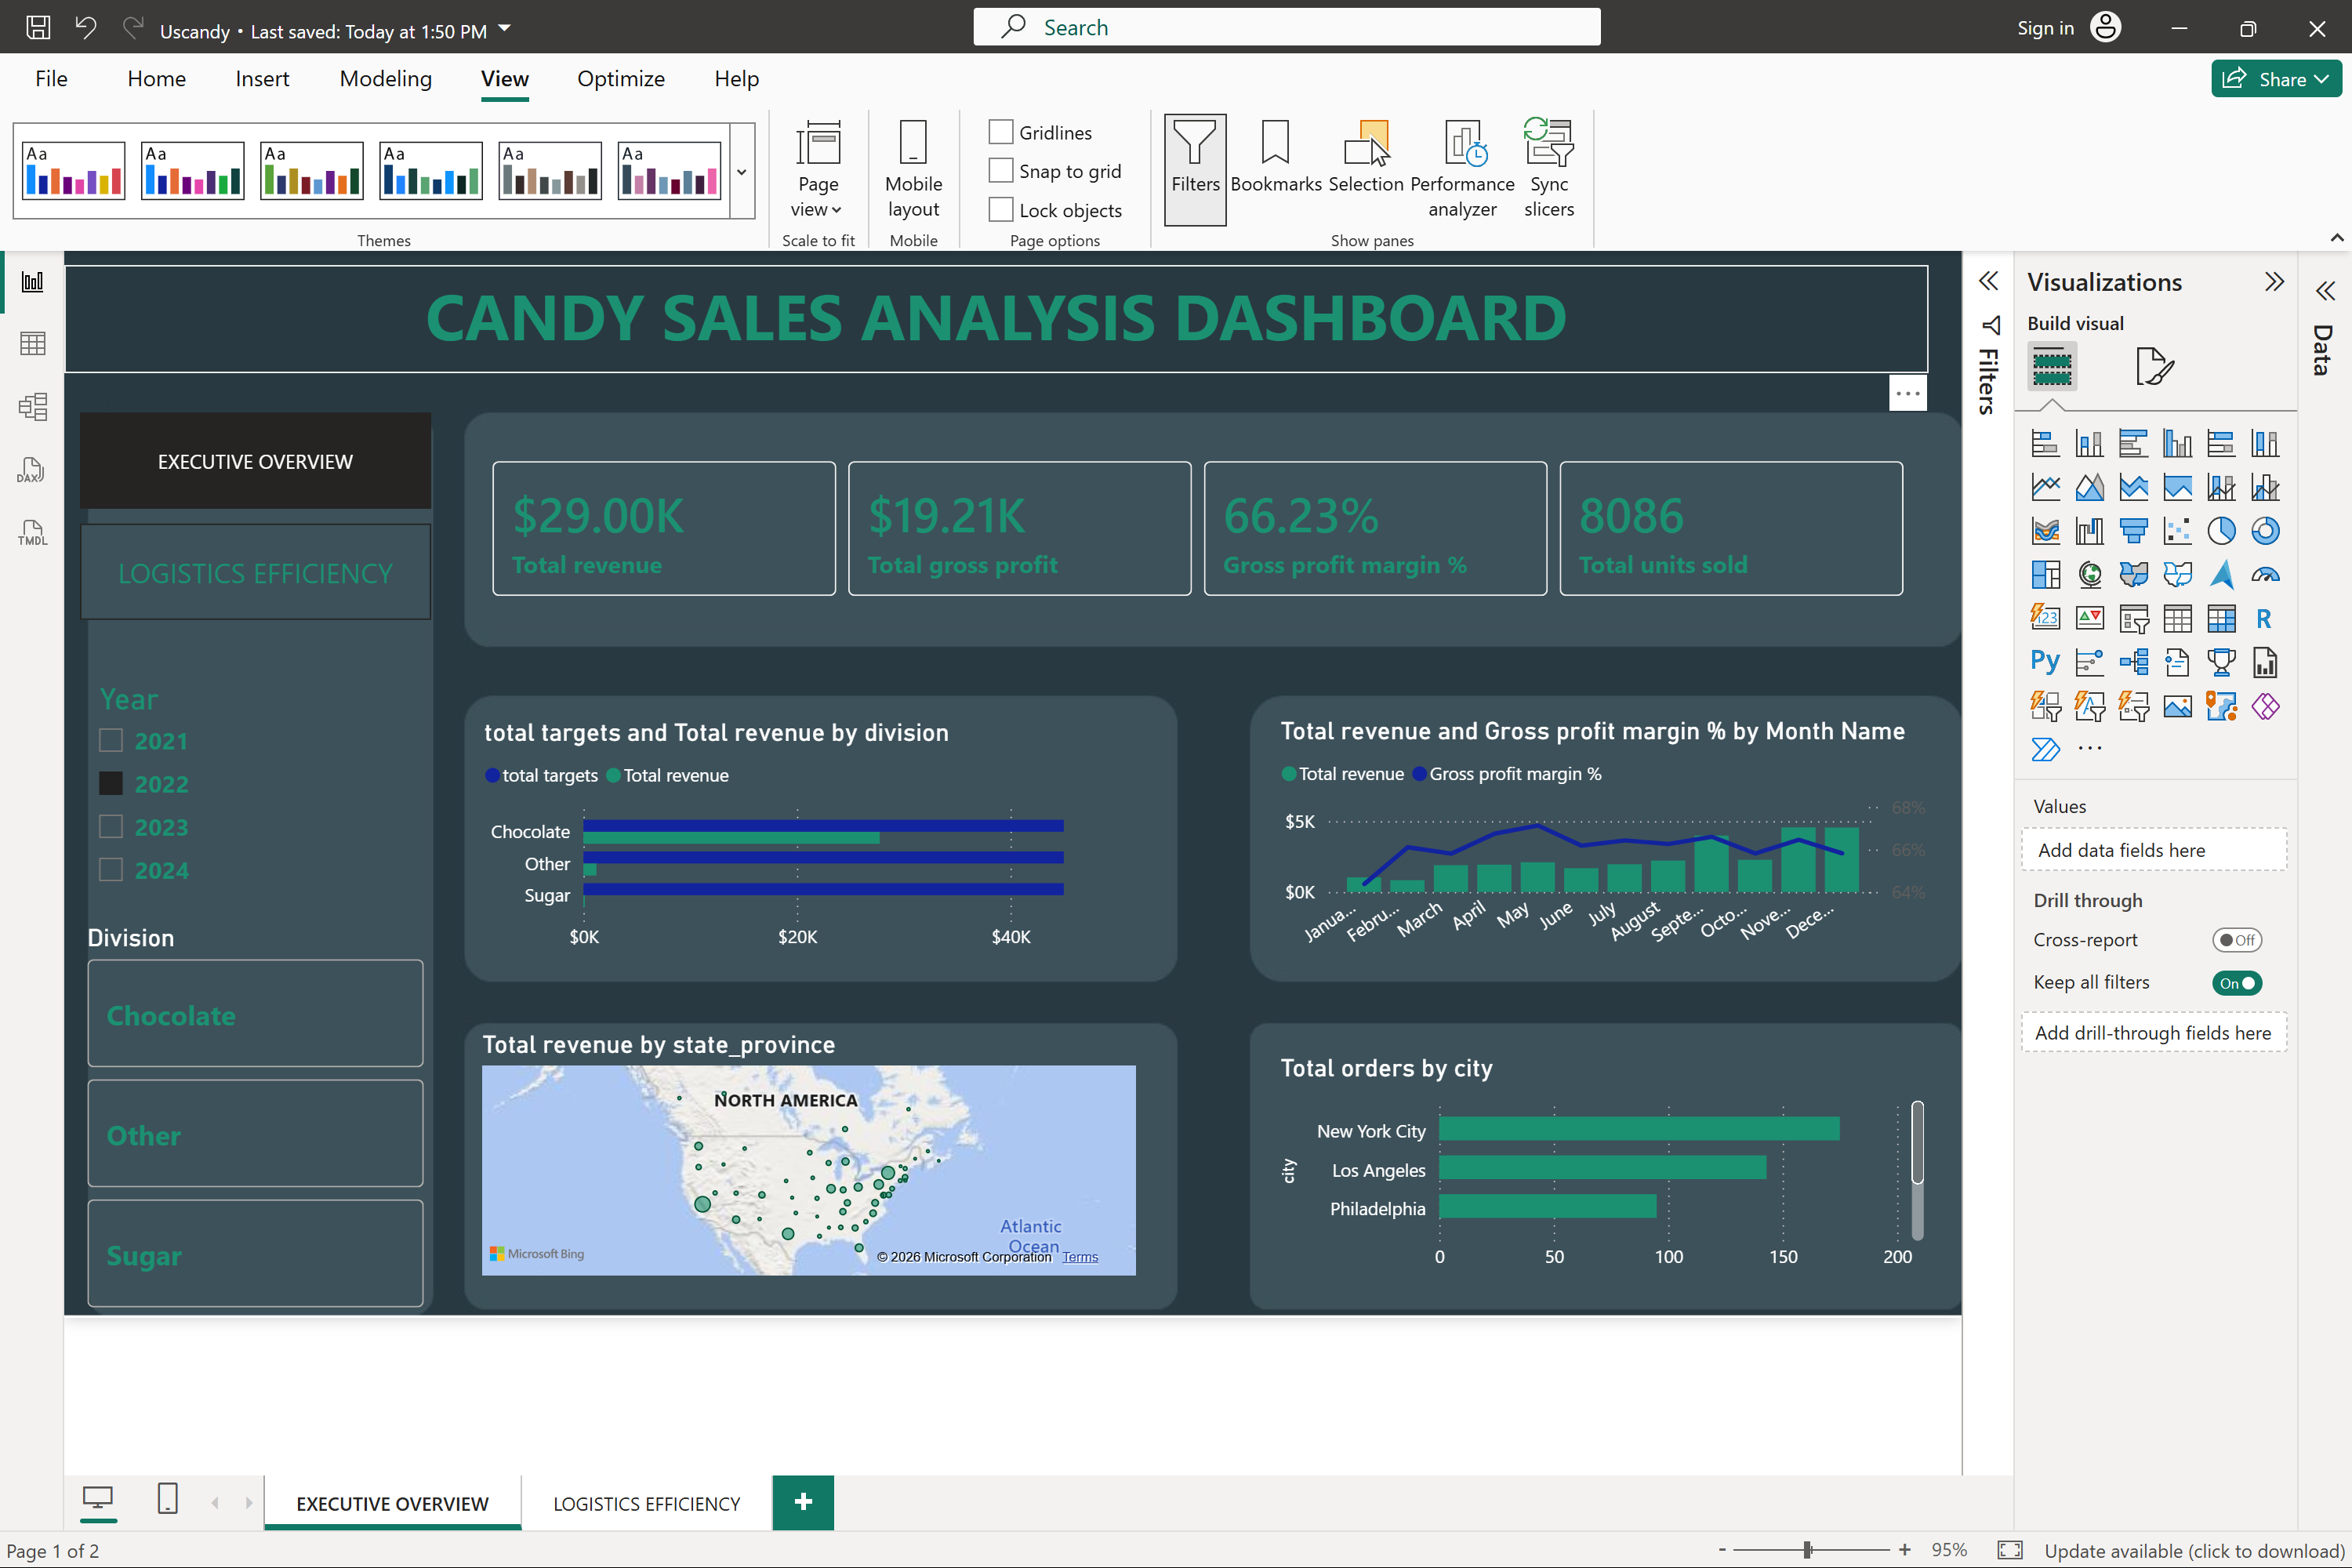

The page's visual inventory and layout, read from the dashboard file:
{"tool":"powerbi","page":{"name":"EXECUTIVE OVERVIEW","canvas":[1280,720],"ordinal":0},"visuals":[{"type":"cardVisual","fields":{"Data":["_Measures.Total revenue","_Measures.Total gross profit","_Measures.Gross profit margin %","_Measures.Total units sold"]},"box":[272,125.3,986.7,125.3],"z":0},{"type":"clusteredBarChart","fields":{"Category":["dim_product.division"],"Y":["_Measures.total targets","_Measures.Total revenue"]},"box":[277.9,315.2,451.1,166],"z":1000},{"type":"lineStackedColumnComboChart","fields":{"Category":["Dime_date.Month Name"],"Y":["_Measures.Total revenue"],"Y2":["_Measures.Gross profit margin %"]},"box":[816,314.7,445.3,165.3],"z":2000},{"type":"map","fields":{"Category":["Dim_customer.state_province"],"Size":["_Measures.Total revenue"]},"box":[277.3,525.3,450.7,170.7],"z":3000},{"type":"clusteredBarChart","fields":{"Category":["Dim_customer.city"],"Y":["_Measures.Total orders"]},"box":[815.6,541.4,443.9,155.2],"z":4000},{"type":"slicer","fields":{"Values":["Dime_date.Year"]},"box":[10.7,285.3,240,152],"z":5000},{"type":"advancedSlicerVisual","fields":{"Values":["Candy_Targets.Division"]},"box":[10.7,453.3,237.3,266.7],"z":6000},{"type":"textbox","box":[0,9.5,1257.8,72.9],"z":7000},{"type":"pageNavigator","box":[10.7,109.3,237.3,141.3],"z":7001}]}

Visuals, with their boxes on the page's 1280x720 design canvas (x1, y1, x2, y2). These are canvas units, not pixel positions in the 2352x1568 screenshot, which may show the page scaled, cropped or inside an application window:
cardVisual - _Measures.Total revenue x _Measures.Total gross profit: select_region(272, 125, 1259, 251)
clusteredBarChart - dim_product.division x _Measures.total targets: select_region(278, 315, 729, 481)
lineStackedColumnComboChart - Dime_date.Month Name x _Measures.Total revenue: select_region(816, 315, 1261, 480)
map - Dim_customer.state_province x _Measures.Total revenue: select_region(277, 525, 728, 696)
clusteredBarChart - Dim_customer.city x _Measures.Total orders: select_region(816, 541, 1260, 697)
slicer - Dime_date.Year: select_region(11, 285, 251, 437)
advancedSlicerVisual - Candy_Targets.Division: select_region(11, 453, 248, 720)
textbox: select_region(0, 10, 1258, 82)
pageNavigator: select_region(11, 109, 248, 251)
